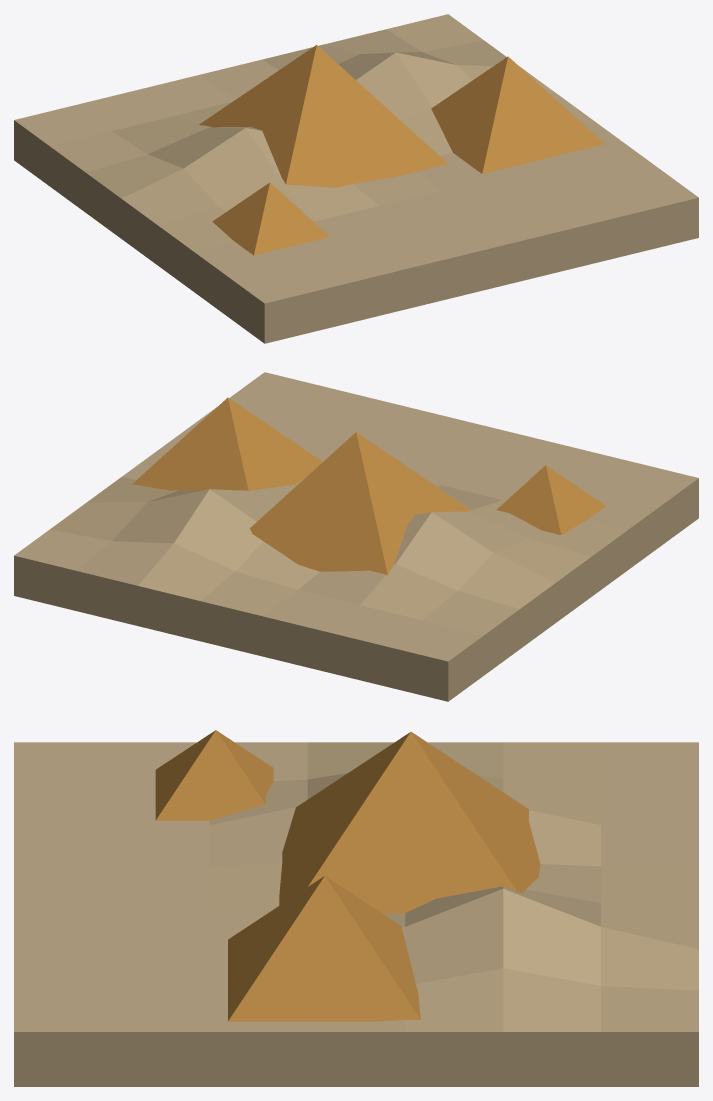
File: piramedes .fbx
The picture shows the model from 3 angles, top to bottom: view 1: azimuth 30°, elevation 25°; view 2: azimuth 150°, elevation 25°; view 3: azimuth 270°, elevation 25°; orthographic projection. The views are drawn at different scales.
Visible parts, largest first — view 1: Cube; view 2: Cube; view 3: Cube.
Part boxes in pixels (bbox=[...]): Cube: bbox=[14, 14, 698, 343]; Cube: bbox=[14, 372, 698, 701]; Cube: bbox=[14, 730, 698, 1086].
Bounding box in the file's own units: 207 × 65.8 × 207.
